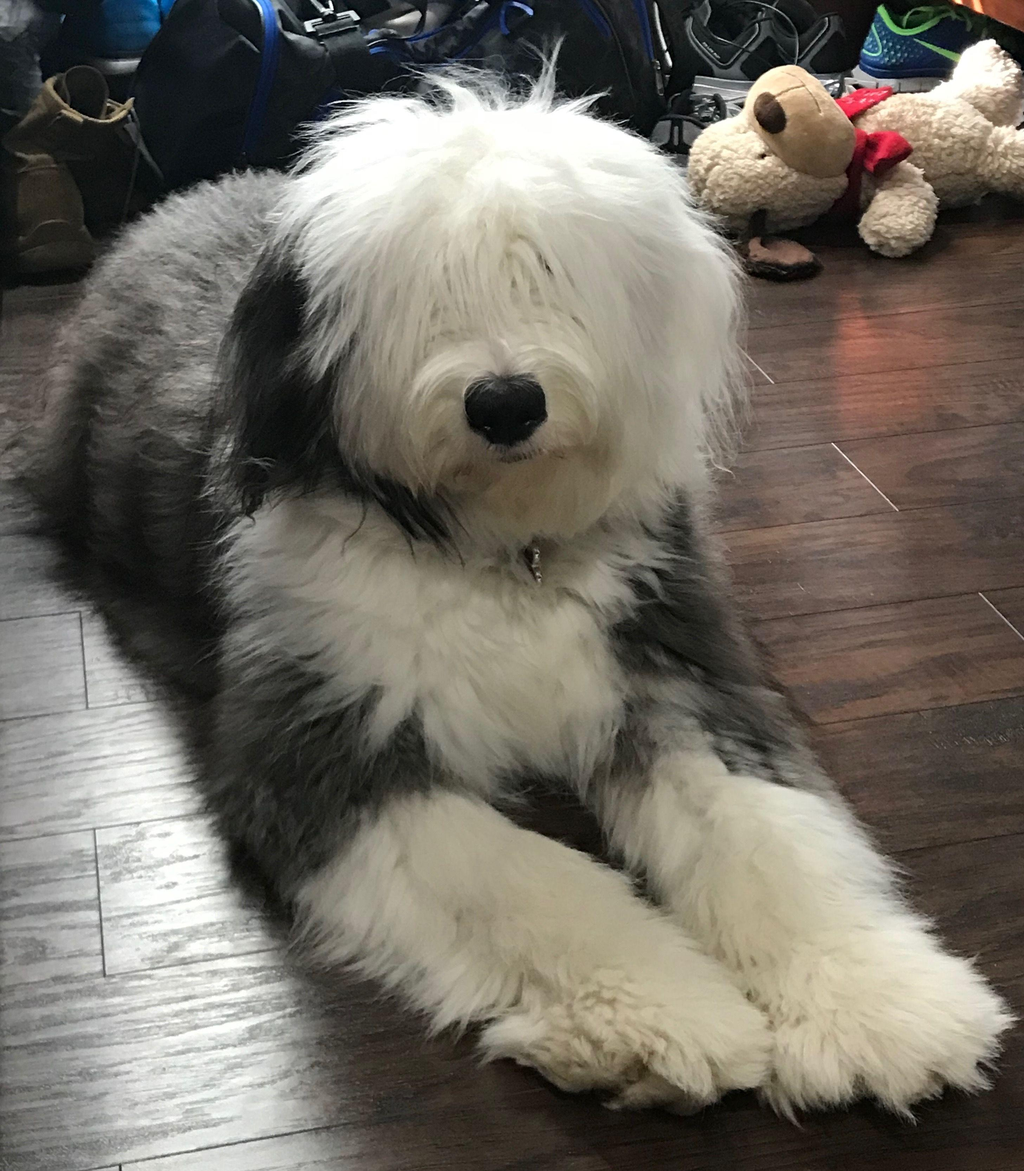adult_dog: (15, 46, 1018, 1127)
